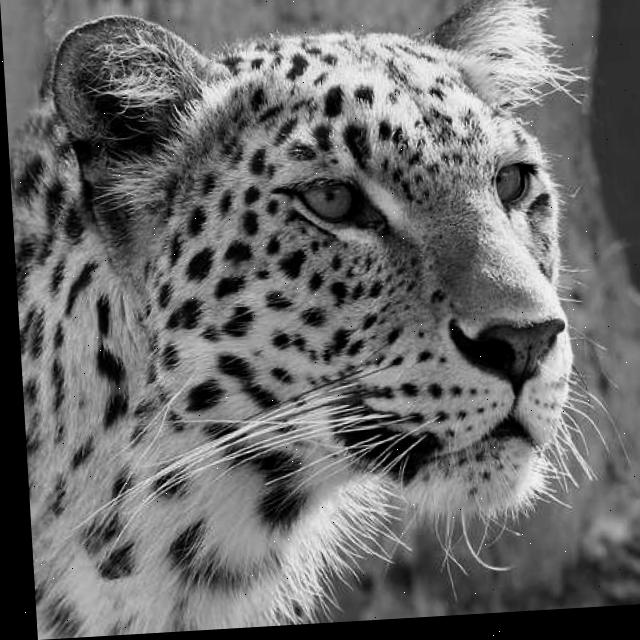Leopard: (1, 0, 637, 639)
